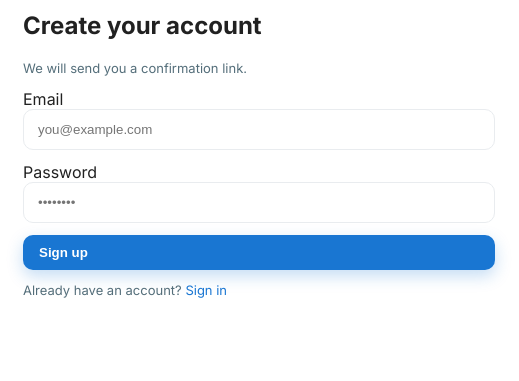
Test: Auth pages (Login & Signup) › Signup submits email/password via useAuth.signUpWithEmail
The width and height of the screenshot is (519, 381).
Type "new@example.com" into the field with placeholder "you@example.com".
click(259, 129); type("new@example.com")  # box x1=23 y1=109 x2=495 y2=150
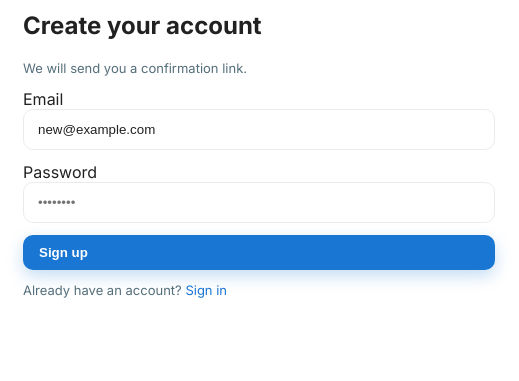
Type "secret123" into the password field with placeholder "••••••••".
click(259, 202); type("secret123")  # box x1=23 y1=182 x2=495 y2=223
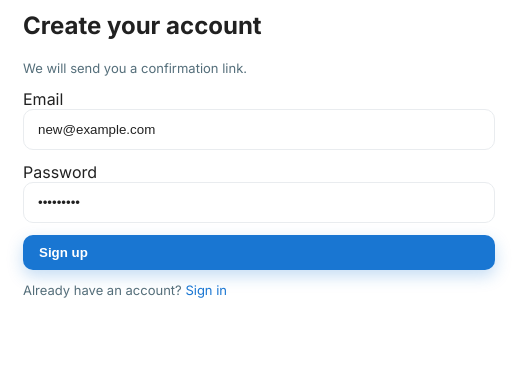
Click the button "Sign up".
click(63, 252)  # box x1=23 y1=235 x2=495 y2=270
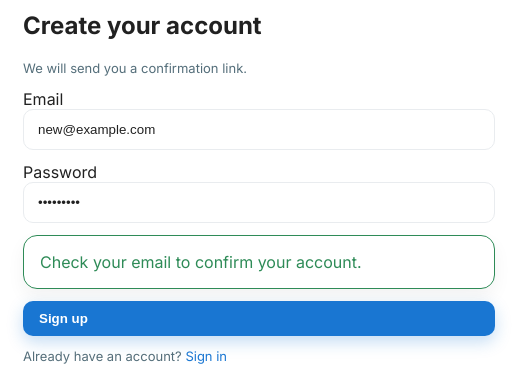
Check: the text "Check your email to confirm your account." is shown, box x1=23 y1=235 x2=495 y2=289
